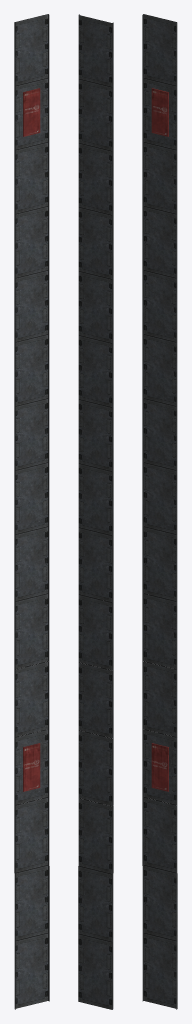
Rendered from 02_06_elevator_shaft.dae.
3 renders of one model, left to right at view 1: azimuth 30°, elevation 25°; view 2: azimuth 150°, elevation 25°; view 3: azimuth 330°, elevation 25°, orthographic.
Visible parts, largest first — view 1: background, signs; view 2: background; view 3: background, signs.
Part boxes in pixels (x1=…): background: x1=14, y1=14, x2=49, y2=1009; signs: x1=23, y1=88, x2=40, y2=791; background: x1=78, y1=14, x2=113, y2=1009; background: x1=142, y1=14, x2=177, y2=1009; signs: x1=151, y1=88, x2=168, y2=791.
Size of the model in its own units: 2 by 55.75 by 0.125.
